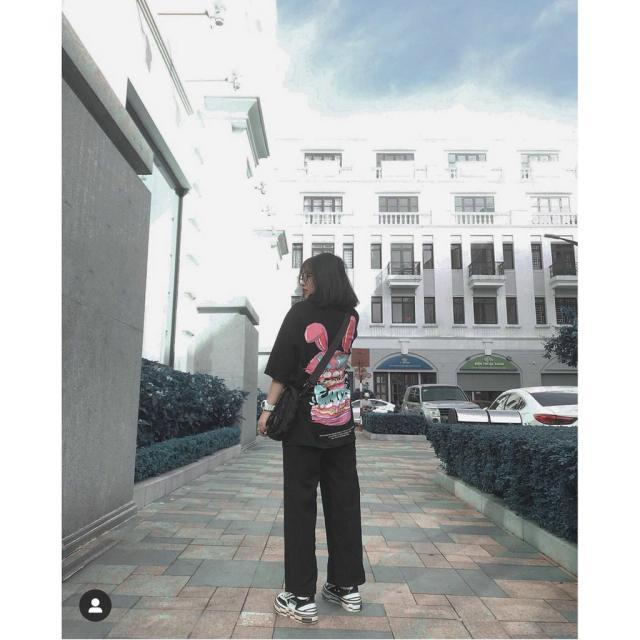Shirt: (256, 288, 364, 444)
